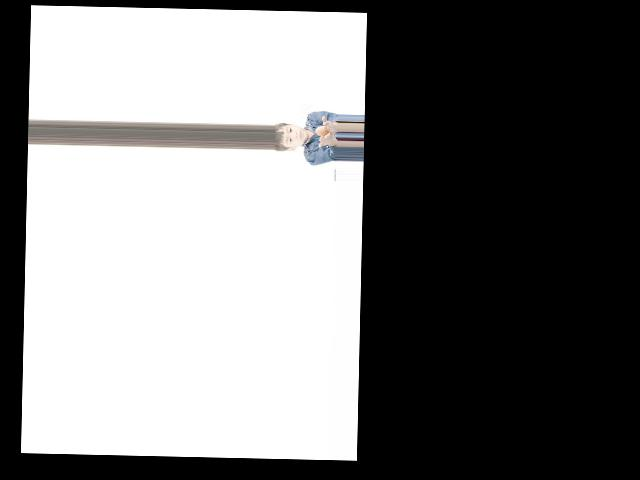egg: (315, 126, 328, 136)
